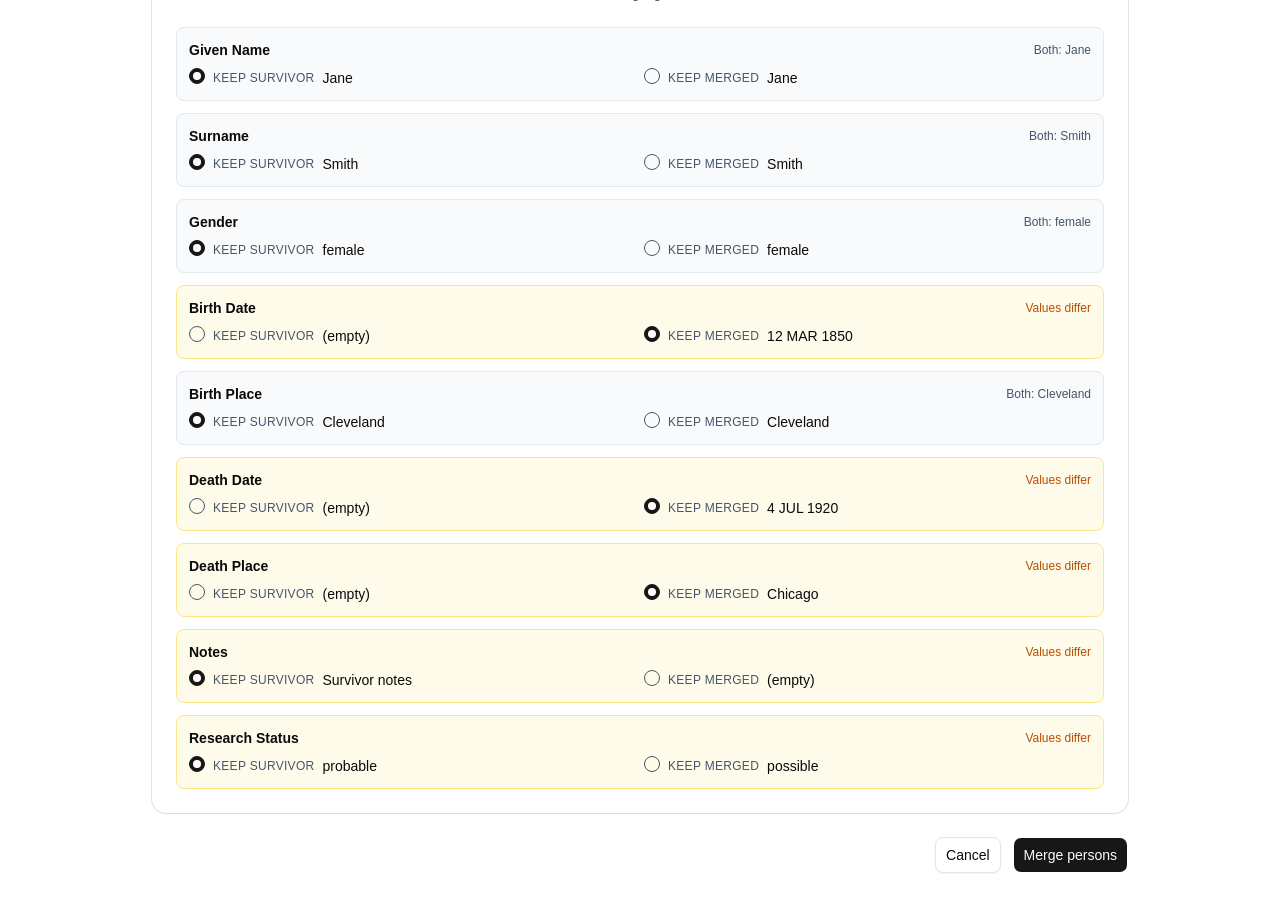
Scenario: Merge Picker Page › surfaces API error message on merge failure
(page scrolled)
Click the button "Merge persons".
click(1070, 855)  # box [1013,837,1128,873]
(page scrolled)
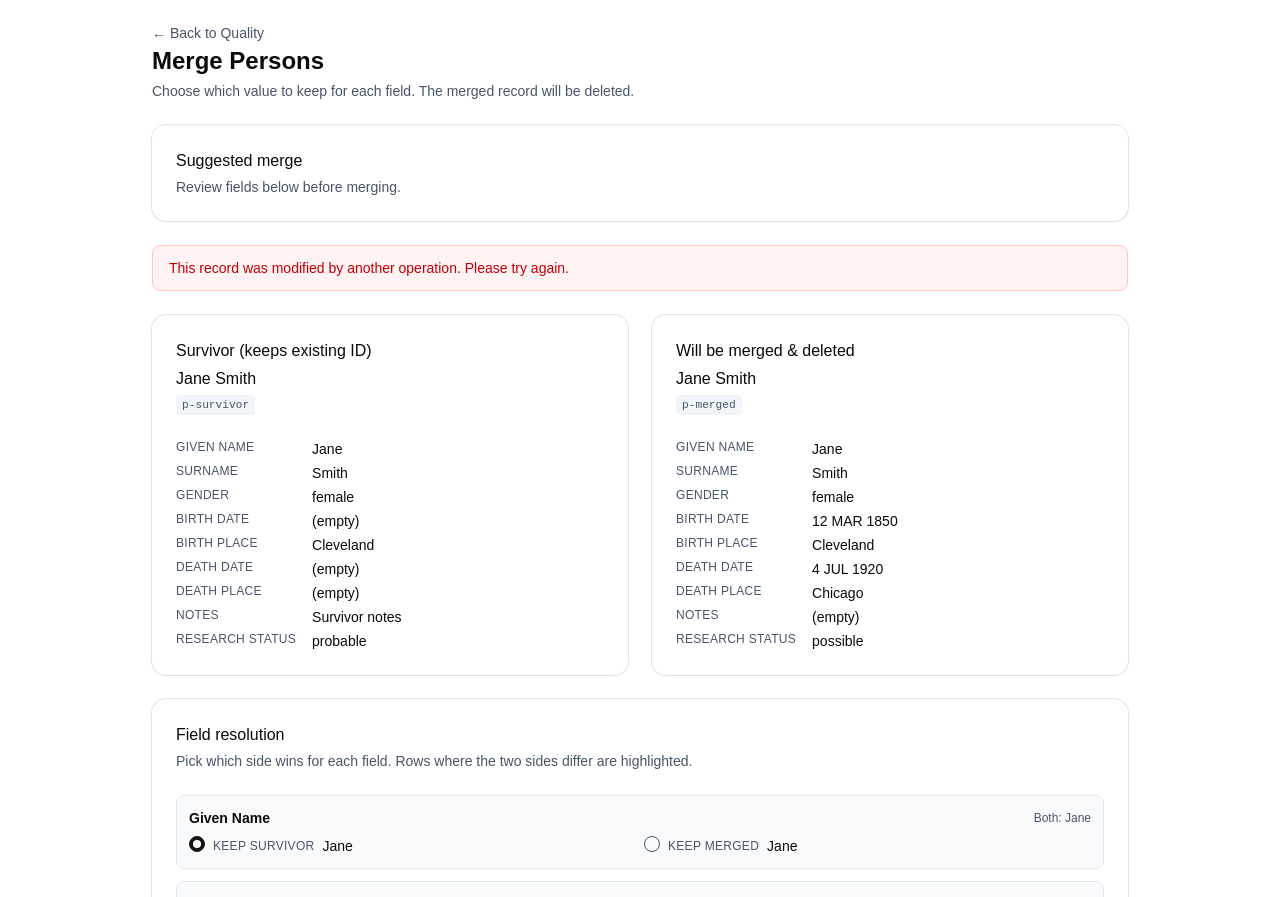
Now the text "This record was modified by another operation. Please try again." is shown, box [152,245,1128,291]
